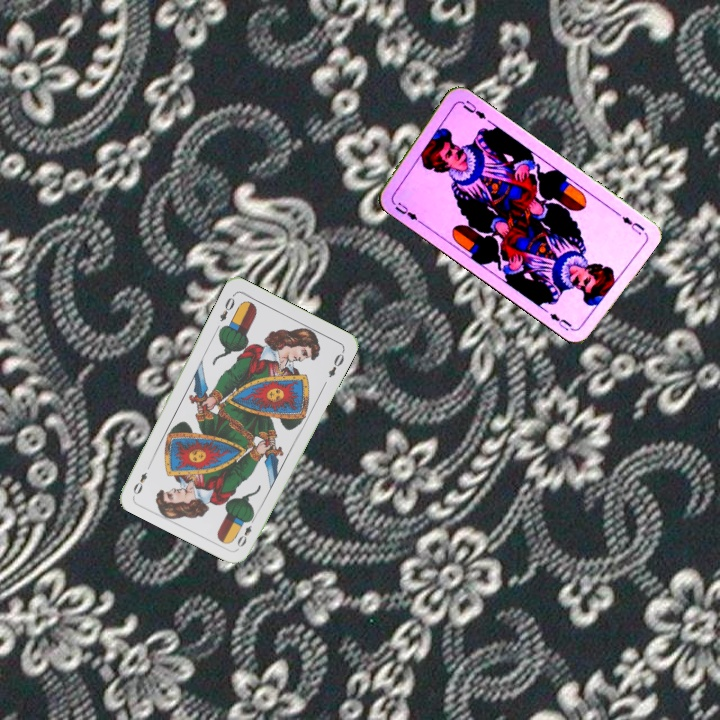EO: (233, 512, 258, 550), (216, 290, 237, 324)
EU: (391, 198, 420, 223), (618, 212, 647, 237)
